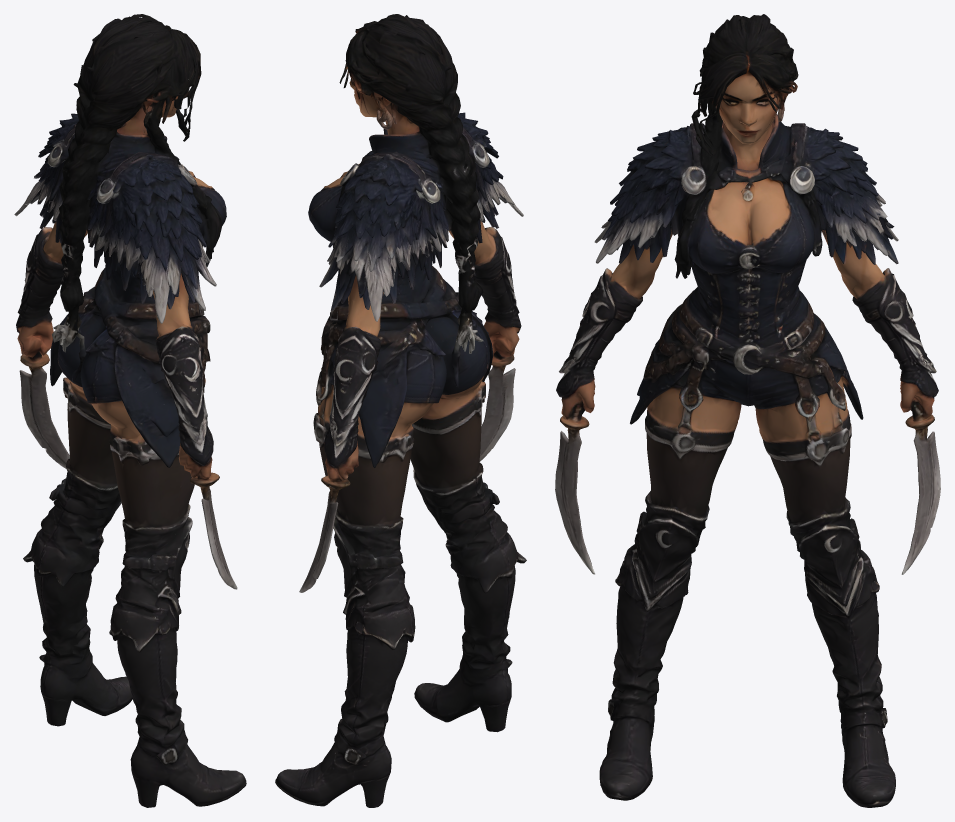
The model's file is kestrel_T4-tripo.glb.
3 views of the same model, side by side, from view 1: azimuth 30°, elevation 25°; view 2: azimuth 150°, elevation 25°; view 3: azimuth 270°, elevation 25° (orthographic). The views are drawn at different scales.
Visible parts, largest first — view 1: tripo_node_1a2cc112-9ed3-4016-ba1a-6a1a5186ed11; view 2: tripo_node_1a2cc112-9ed3-4016-ba1a-6a1a5186ed11; view 3: tripo_node_1a2cc112-9ed3-4016-ba1a-6a1a5186ed11.
Part boxes in pixels (x1=…): tripo_node_1a2cc112-9ed3-4016-ba1a-6a1a5186ed11: x1=14, y1=14, x2=246, y2=807; tripo_node_1a2cc112-9ed3-4016-ba1a-6a1a5186ed11: x1=275, y1=14, x2=526, y2=807; tripo_node_1a2cc112-9ed3-4016-ba1a-6a1a5186ed11: x1=555, y1=14, x2=940, y2=807.
Bounding box in the file's own units: 0.2169 × 1 × 0.4559.
Materials: 1 (1 with a texture image).
